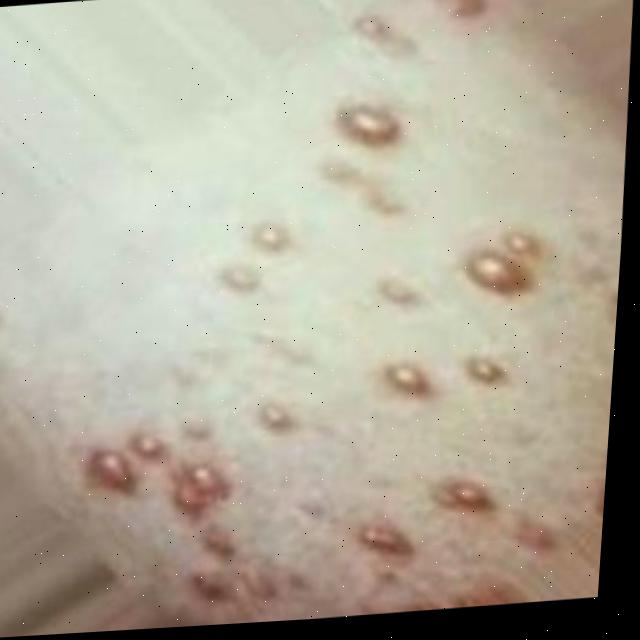Shingles: (89, 0, 612, 632)
